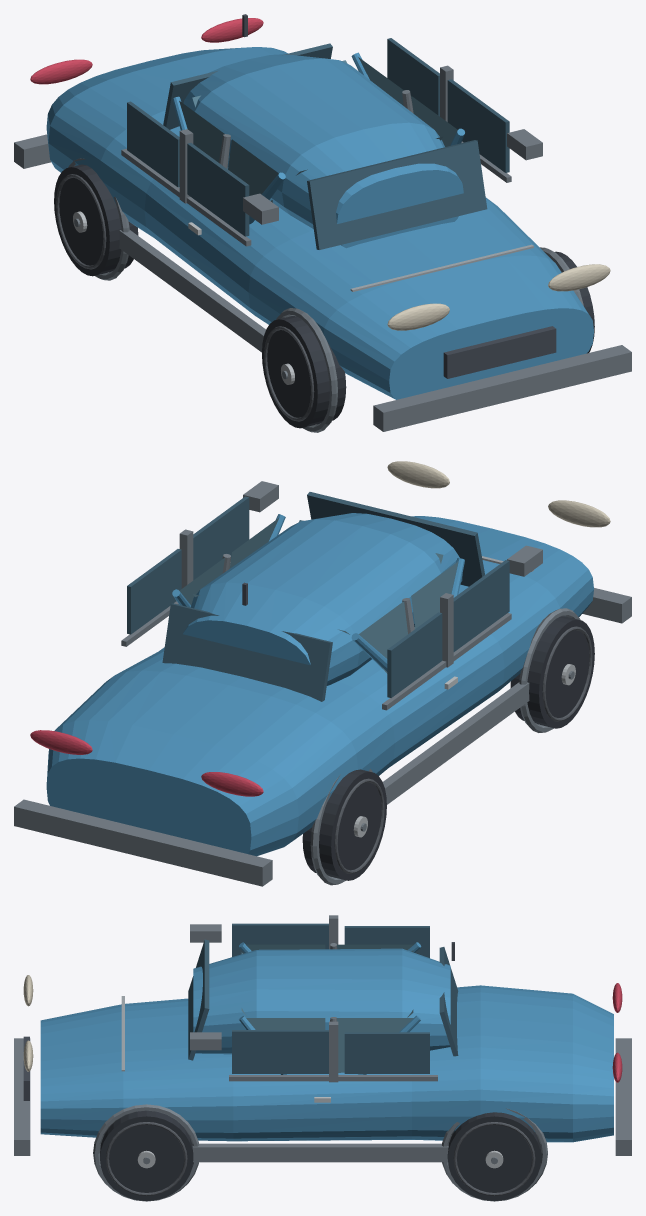
The model's file is sedan.glb.
The picture shows the model from 3 angles, top to bottom: view 1: azimuth 30°, elevation 25°; view 2: azimuth 150°, elevation 25°; view 3: azimuth 270°, elevation 25°; orthographic projection. The views are drawn at different scales.
Visible parts, largest first — view 1: sedan_body, sedan_roof_shell, sedan_front_glass_insert, sedan_front_bumper, sedan_wheel_-1_1_tire_core, sedan_wheel_-1_0_tire_core, sedan_side_skirt_-1, sedan_side_glass_front_insert_-1, sedan_front_grille, sedan_side_glass_front_insert_1, sedan_side_glass_rear_insert_-1, sedan_side_glass_rear_insert_1 (+19 smaller); view 2: sedan_body, sedan_roof_shell, sedan_rear_bumper, sedan_rear_glass_insert, sedan_wheel_-1_0_tire_core, sedan_wheel_-1_1_tire_core, sedan_side_skirt_-1, sedan_front_glass_insert, sedan_side_glass_front_insert_-1, sedan_side_glass_rear_insert_-1, sedan_side_glass_rear_insert_1, sedan_side_glass_front_insert_1 (+18 smaller); view 3: sedan_body, sedan_roof_shell, sedan_wheel_1_1_tire_core, sedan_wheel_1_0_tire_core, sedan_side_skirt_1, sedan_side_glass_front_insert_1, sedan_side_glass_rear_insert_1, sedan_side_glass_front_insert_-1, sedan_rear_bumper, sedan_side_glass_rear_insert_-1, sedan_front_bumper, sedan_arch_1_1 (+12 smaller).
Boxes of the visible parts, x1,y1,x2,y2 form: sedan_body: [46, 47, 593, 399]; sedan_roof_shell: [183, 54, 463, 248]; sedan_front_glass_insert: [307, 140, 487, 249]; sedan_front_bumper: [373, 345, 631, 431]; sedan_wheel_-1_1_tire_core: [262, 316, 346, 428]; sedan_wheel_-1_0_tire_core: [54, 164, 138, 276]; sedan_side_skirt_-1: [119, 230, 265, 352]; sedan_side_glass_front_insert_-1: [187, 143, 249, 236]; sedan_front_grille: [443, 326, 556, 378]; sedan_side_glass_front_insert_1: [447, 79, 509, 172]; sedan_side_glass_rear_insert_-1: [127, 101, 179, 187]; sedan_side_glass_rear_insert_1: [387, 38, 439, 116]; sedan_body: [46, 516, 593, 856]; sedan_roof_shell: [183, 513, 462, 685]; sedan_rear_bumper: [14, 799, 272, 886]; sedan_rear_glass_insert: [162, 603, 332, 701]; sedan_wheel_-1_0_tire_core: [302, 769, 386, 880]; sedan_wheel_-1_1_tire_core: [510, 616, 594, 728]; sedan_side_skirt_-1: [382, 682, 529, 804]; sedan_front_glass_insert: [307, 492, 484, 586]; sedan_side_glass_front_insert_-1: [453, 560, 509, 651]; sedan_side_glass_rear_insert_-1: [387, 612, 442, 697]; sedan_side_glass_rear_insert_1: [127, 549, 181, 634]; sedan_side_glass_front_insert_1: [193, 496, 249, 580]; sedan_body: [40, 985, 613, 1142]; sedan_roof_shell: [193, 948, 450, 1054]; sedan_wheel_1_1_tire_core: [100, 1110, 193, 1200]; sedan_wheel_1_0_tire_core: [447, 1112, 541, 1200]; sedan_side_skirt_1: [192, 1143, 448, 1162]; sedan_side_glass_front_insert_1: [232, 1030, 328, 1073]; sedan_side_glass_rear_insert_1: [344, 1032, 429, 1073]; sedan_side_glass_front_insert_-1: [232, 923, 328, 956]; sedan_rear_bumper: [615, 1038, 631, 1155]; sedan_side_glass_rear_insert_-1: [344, 926, 429, 958]; sedan_front_bumper: [14, 1038, 30, 1155]; sedan_arch_1_1: [93, 1104, 199, 1201].
Size of the model in its own units: 2.03 by 1.67 by 4.49.
